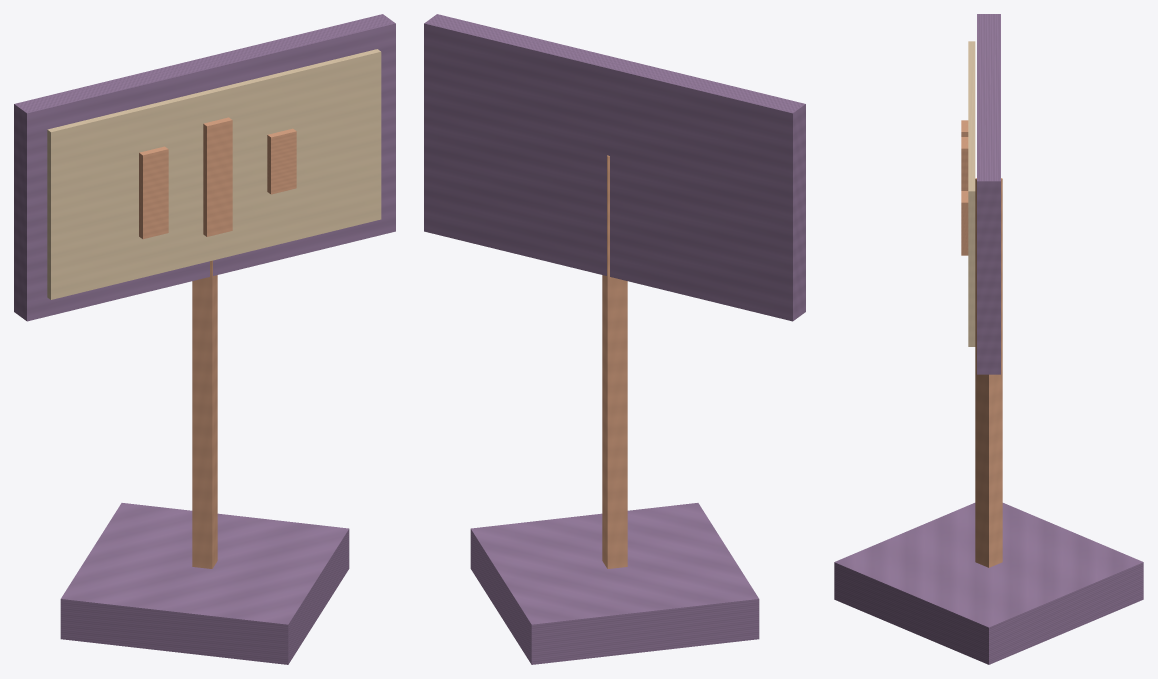
File: atlas100-s082-a11.glb
The picture shows the model from 3 angles, left to right: view 1: azimuth 30°, elevation 25°; view 2: azimuth 150°, elevation 25°; view 3: azimuth 270°, elevation 25°; orthographic projection. The views are drawn at different scales.
Visible parts, largest first — view 1: atlas100-s082-a11:part-003, atlas100-s082-a11:part-000, atlas100-s082-a11:part-002, atlas100-s082-a11:part-001, atlas100-s082-a11:part-005, atlas100-s082-a11:part-004, atlas100-s082-a11:part-006; view 2: atlas100-s082-a11:part-002, atlas100-s082-a11:part-000, atlas100-s082-a11:part-001; view 3: atlas100-s082-a11:part-000, atlas100-s082-a11:part-002, atlas100-s082-a11:part-001, atlas100-s082-a11:part-003, atlas100-s082-a11:part-006.
Part boxes in pixels (bbox=[...]): atlas100-s082-a11:part-003: bbox=[47, 49, 381, 299]; atlas100-s082-a11:part-000: bbox=[60, 503, 349, 664]; atlas100-s082-a11:part-002: bbox=[14, 14, 395, 321]; atlas100-s082-a11:part-001: bbox=[192, 260, 217, 568]; atlas100-s082-a11:part-005: bbox=[203, 117, 232, 236]; atlas100-s082-a11:part-004: bbox=[139, 146, 168, 239]; atlas100-s082-a11:part-006: bbox=[267, 128, 296, 194]; atlas100-s082-a11:part-002: bbox=[424, 14, 805, 321]; atlas100-s082-a11:part-000: bbox=[470, 503, 759, 664]; atlas100-s082-a11:part-001: bbox=[602, 155, 627, 568]; atlas100-s082-a11:part-000: bbox=[834, 503, 1143, 664]; atlas100-s082-a11:part-002: bbox=[977, 14, 1000, 374]; atlas100-s082-a11:part-001: bbox=[975, 178, 1002, 567]; atlas100-s082-a11:part-003: bbox=[968, 41, 975, 346]; atlas100-s082-a11:part-006: bbox=[961, 191, 968, 255].
Size of the model in its own units: 1.15 by 1.61 by 0.9.
3 materials, 3 textured.
